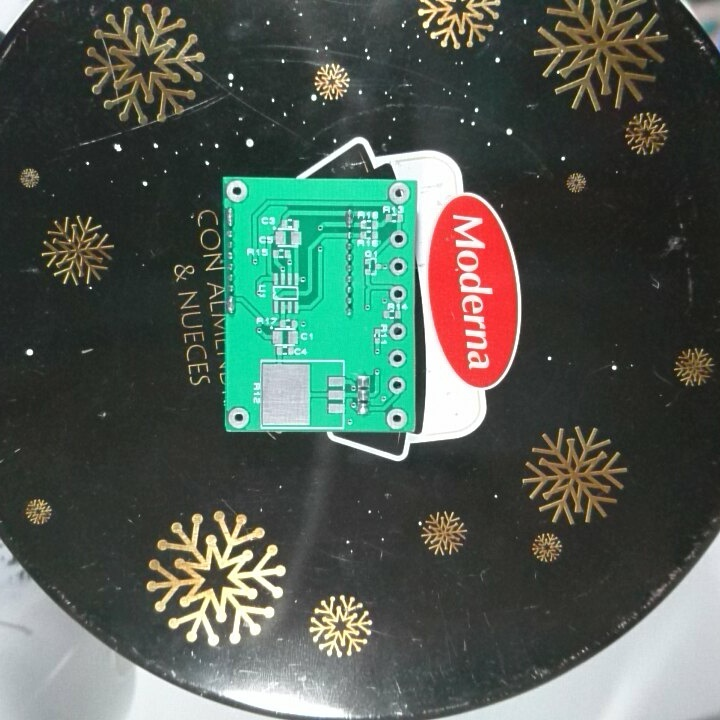F: (385, 180, 412, 206), (383, 404, 408, 429), (225, 406, 251, 430), (223, 179, 251, 200), (386, 254, 409, 278), (386, 280, 408, 304), (385, 320, 408, 341), (388, 227, 408, 249), (387, 346, 406, 368), (387, 375, 406, 395)
P: (342, 203, 357, 229), (224, 204, 237, 229), (225, 294, 237, 317)
